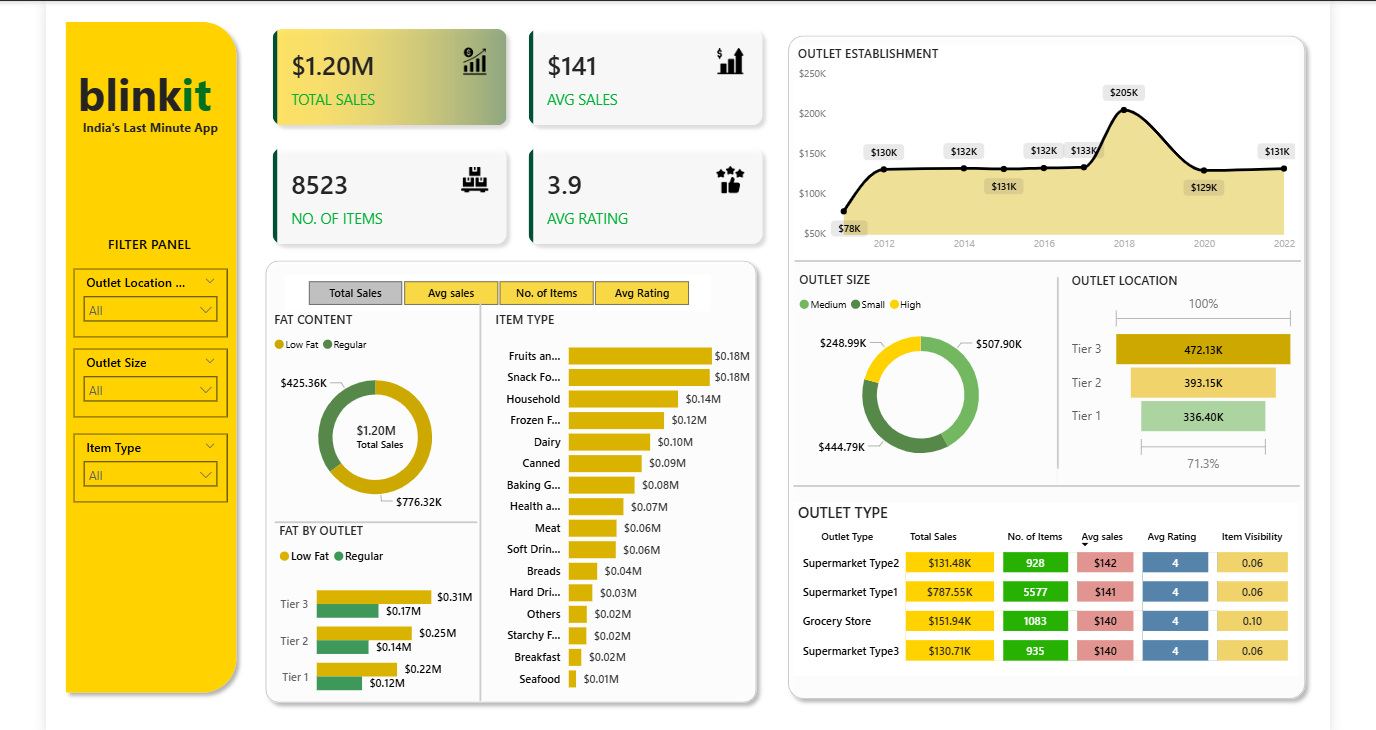

This screenshot's page, from the dashboard's own definition file:
{"tool":"powerbi","page":{"name":"Page 1","canvas":[1400,800],"ordinal":0},"visuals":[{"type":"shape","box":[12.3,13.6,204.5,749.8],"z":0},{"type":"textbox","box":[30,62.7,186.8,92.7],"z":1000},{"type":"textbox","box":[30,124.1,167.7,40.9],"z":2000},{"type":"cardVisual","fields":{"Data":["BlinkIT Grocery Data.Total Sales","BlinkIT Grocery Data.Avg sales","BlinkIT Grocery Data.No. of Items","BlinkIT Grocery Data.Avg Rating"]},"box":[230.4,13.6,569.9,269.9],"z":3000},{"type":"shape","box":[230.4,274,553.5,500.3],"z":4000},{"type":"donutChart","title":"FAT CONTENT ","fields":{"Y":["BlinkIT Grocery Data.Total Sales"],"Category":["BlinkIT Grocery Data.Item Fat Content"]},"box":[244,338.1,230.4,230.4],"z":5000},{"type":"slicer","fields":{"Values":["Metrics .Metrics "]},"box":[260.4,298.6,465,40],"z":6000},{"type":"cardVisual","fields":{"Data":["BlinkIT Grocery Data.Total Sales"]},"box":[321.7,437.6,103.6,72.3],"z":7000},{"type":"clusteredBarChart","title":"FAT BY OUTLET ","fields":{"Y":["BlinkIT Grocery Data.Total Sales"],"Category":["BlinkIT Grocery Data.Outlet Location Type"],"Series":["BlinkIT Grocery Data.Item Fat Content"]},"box":[249.5,568.5,220.9,205.9],"z":8000},{"type":"shape","box":[249.5,550.8,220.9,35.4],"z":9000},{"type":"shape","box":[1092,298.6,21.8,226.3],"z":10000},{"type":"barChart","title":"ITEM TYPE ","fields":{"Y":["BlinkIT Grocery Data.Total Sales"],"Category":["BlinkIT Grocery Data.Item Type"]},"box":[485.3,338.1,287.7,425.4],"z":11000},{"type":"shape","box":[800.3,28.6,582.1,741.7],"z":12000},{"type":"lineChart","title":"OUTLET ESTABLISHMENT ","fields":{"Y":["BlinkIT Grocery Data.Total Sales"],"Category":["BlinkIT Grocery Data.Outlet Establishment Year"]},"box":[815.3,47.7,552.2,234.5],"z":13000},{"type":"shape","box":[816.6,265.9,552.2,35.4],"z":14000},{"type":"donutChart","title":"OUTLET SIZE ","fields":{"Y":["BlinkIT Grocery Data.Total Sales"],"Category":["BlinkIT Grocery Data.Outlet Size"]},"box":[816.6,294.5,275,225],"z":15000},{"type":"funnel","title":"OUTLET LOCATION ","fields":{"Y":["Sum(BlinkIT Grocery Data.Sales)"],"Category":["BlinkIT Grocery Data.Outlet Location Type"]},"box":[1113.8,295.8,253.6,223.6],"z":16000},{"type":"shape","box":[440.4,328.6,66.8,434.9],"z":17000},{"type":"shape","box":[1070.2,301.3,66.8,208.6],"z":18000},{"type":"shape","box":[815.3,511.3,552.2,35.4],"z":19000},{"type":"pivotTable","title":"OUTLET TYPE ","fields":{"Values":["BlinkIT Grocery Data.Total Sales","BlinkIT Grocery Data.No. of Items","BlinkIT Grocery Data.Avg sales","BlinkIT Grocery Data.Avg Rating","Avg(BlinkIT Grocery Data.Item Visibility)"],"Rows":["BlinkIT Grocery Data.Outlet Type"]},"box":[815.3,546.7,550.8,189.5],"z":20000},{"type":"slicer","fields":{"Values":["BlinkIT Grocery Data.Outlet Location Type"]},"box":[30,291.8,167.7,75],"z":20001},{"type":"slicer","fields":{"Values":["BlinkIT Grocery Data.Outlet Size"]},"box":[30,379,167.7,75],"z":20002},{"type":"slicer","fields":{"Values":["BlinkIT Grocery Data.Item Type"]},"box":[30,471.7,167.7,75],"z":20003},{"type":"textbox","box":[62.7,249.5,102.3,34.1],"z":20004}]}

Visuals, with their boxes on the page's 1400x800 design canvas (x1, y1, x2, y2). These are canvas units, not pixel positions in the 1376x730 screenshot, which may show the page scaled, cropped or inside an application window:
shape: rect(12, 14, 217, 763)
textbox: rect(30, 63, 217, 155)
textbox: rect(30, 124, 198, 165)
cardVisual - BlinkIT Grocery Data.Total Sales x BlinkIT Grocery Data.Avg sales: rect(230, 14, 800, 284)
shape: rect(230, 274, 784, 774)
"FAT CONTENT " donutChart: rect(244, 338, 474, 568)
slicer - Metrics .Metrics : rect(260, 299, 725, 339)
cardVisual - BlinkIT Grocery Data.Total Sales: rect(322, 438, 425, 510)
"FAT BY OUTLET " clusteredBarChart: rect(250, 568, 470, 774)
shape: rect(250, 551, 470, 586)
shape: rect(1092, 299, 1114, 525)
"ITEM TYPE " barChart: rect(485, 338, 773, 764)
shape: rect(800, 29, 1382, 770)
"OUTLET ESTABLISHMENT " lineChart: rect(815, 48, 1368, 282)
shape: rect(817, 266, 1369, 301)
"OUTLET SIZE " donutChart: rect(817, 294, 1092, 520)
"OUTLET LOCATION " funnel: rect(1114, 296, 1367, 519)
shape: rect(440, 329, 507, 764)
shape: rect(1070, 301, 1137, 510)
shape: rect(815, 511, 1368, 547)
"OUTLET TYPE " pivotTable: rect(815, 547, 1366, 736)
slicer - BlinkIT Grocery Data.Outlet Location Type: rect(30, 292, 198, 367)
slicer - BlinkIT Grocery Data.Outlet Size: rect(30, 379, 198, 454)
slicer - BlinkIT Grocery Data.Item Type: rect(30, 472, 198, 547)
textbox: rect(63, 250, 165, 284)
